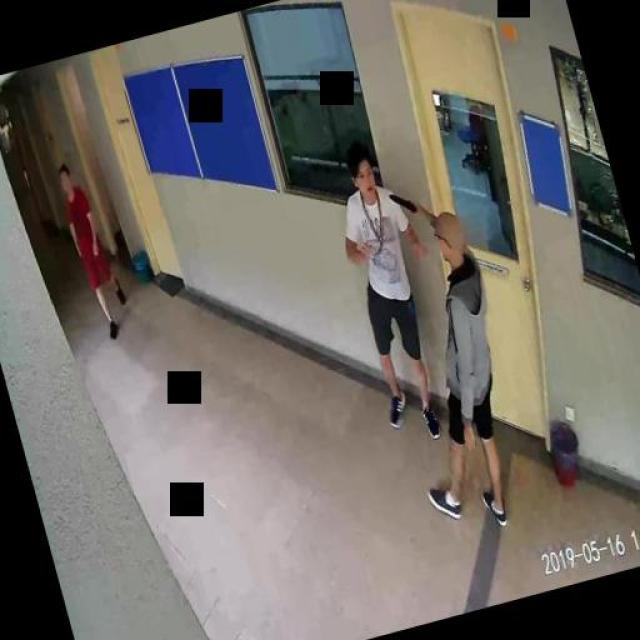gun: (385, 185, 421, 220)
